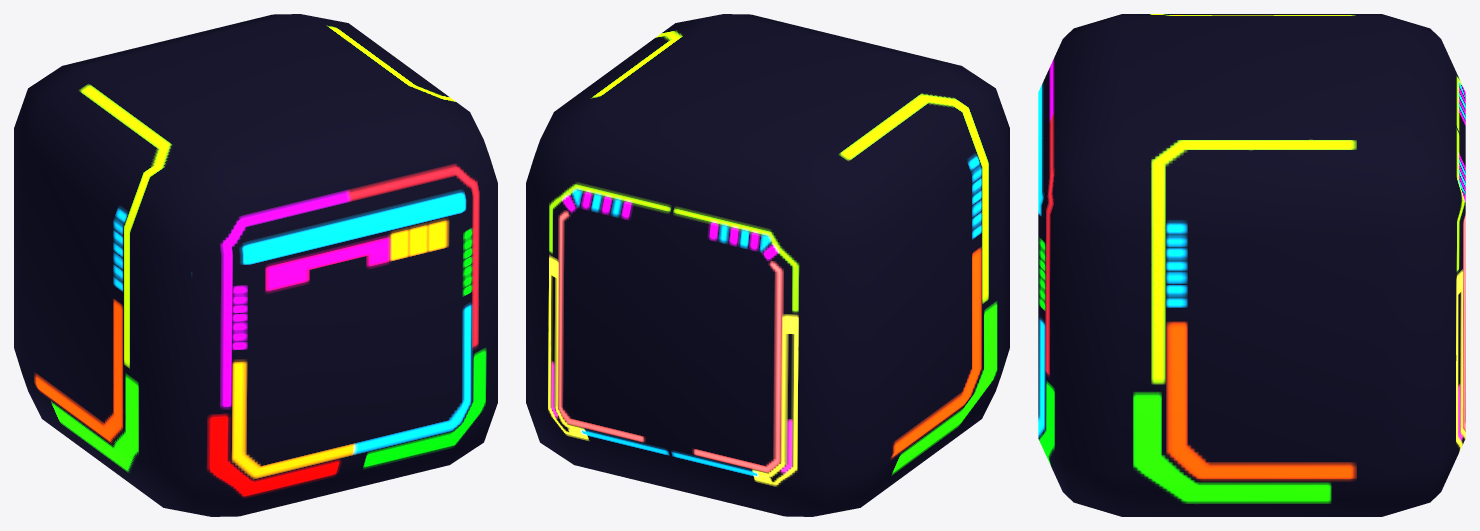
The model's file is air_cube_fx_i.glb.
3 views of the same model, side by side, from view 1: azimuth 30°, elevation 25°; view 2: azimuth 150°, elevation 25°; view 3: azimuth 270°, elevation 25° (orthographic). The views are drawn at different scales.
Visible parts, largest first — view 1: Cube_Halo; view 2: Cube_Halo; view 3: Cube_Halo.
Part boxes in pixels (x1=…): Cube_Halo: x1=14, y1=14, x2=497, y2=516; Cube_Halo: x1=526, y1=14, x2=1009, y2=516; Cube_Halo: x1=1038, y1=14, x2=1465, y2=516.
Size of the model in its own units: 8 by 8 by 8.
1 material, 1 textured.
